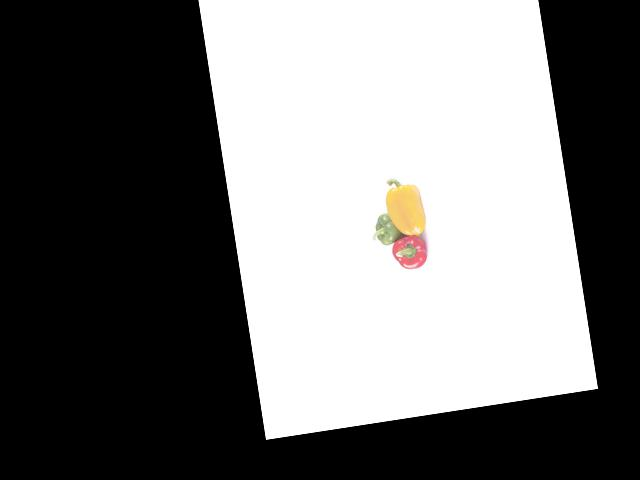bell_pepper: (368, 207, 406, 250)
